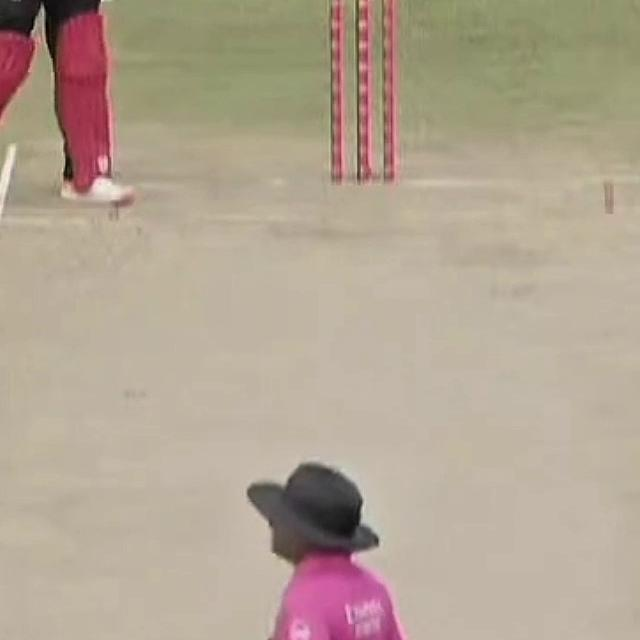umpire: (195, 465, 493, 640), (205, 470, 480, 640)
